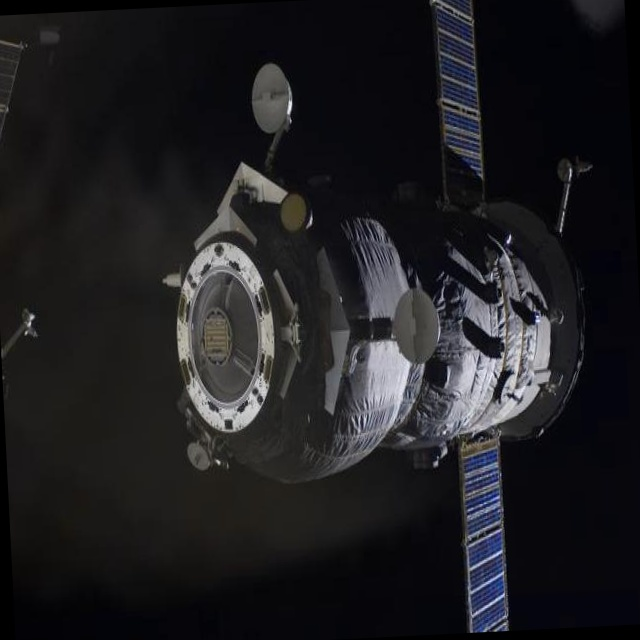medium_debris: (147, 4, 613, 617)
